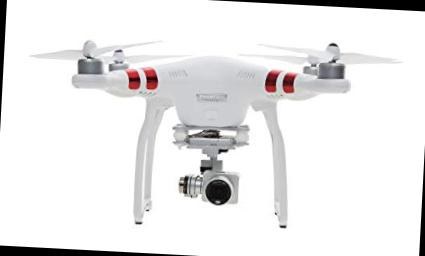drone: (19, 21, 409, 242)
